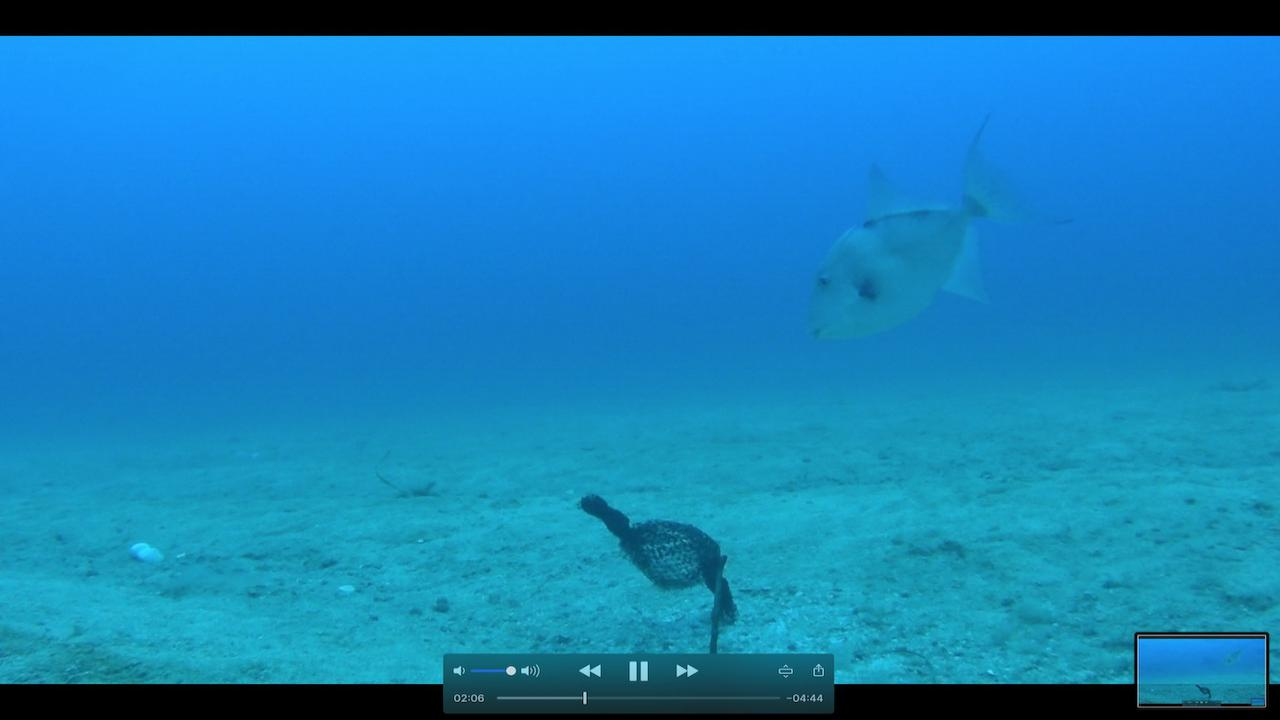balistes: (806, 91, 1083, 341)
